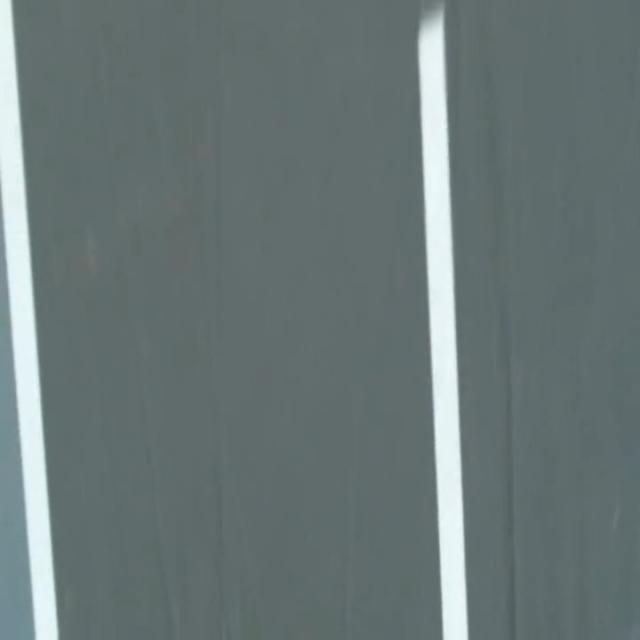center: (419, 4, 468, 639)
